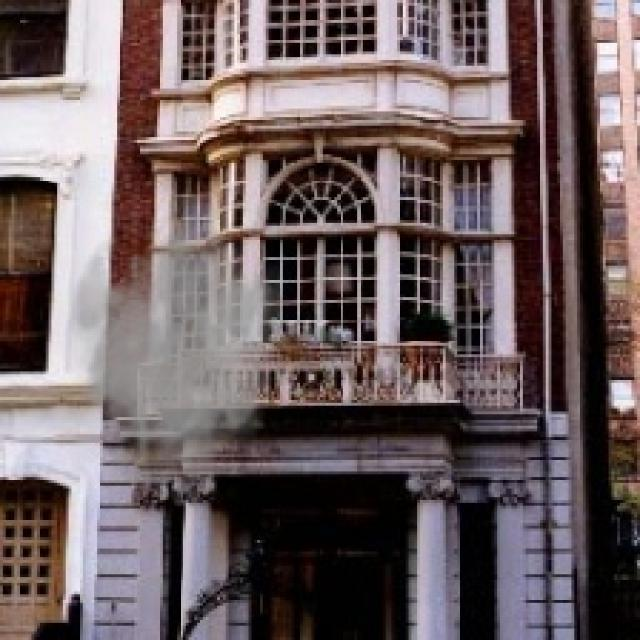Smoke: (54, 212, 283, 494)
